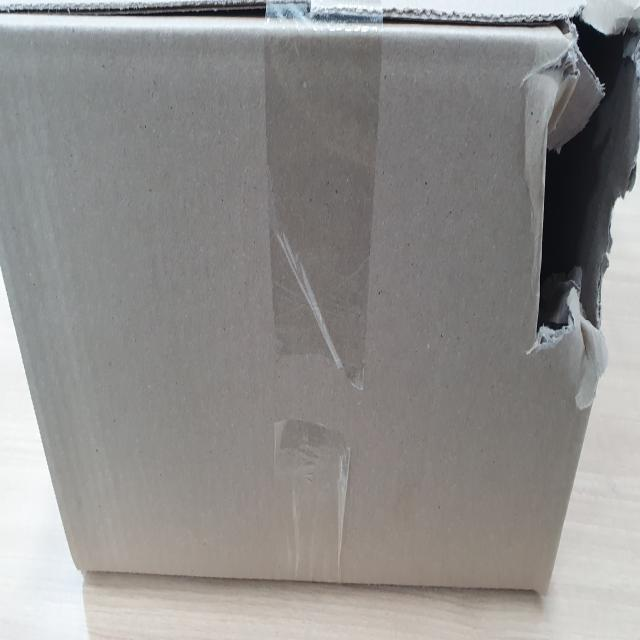hole: (519, 4, 639, 365)
